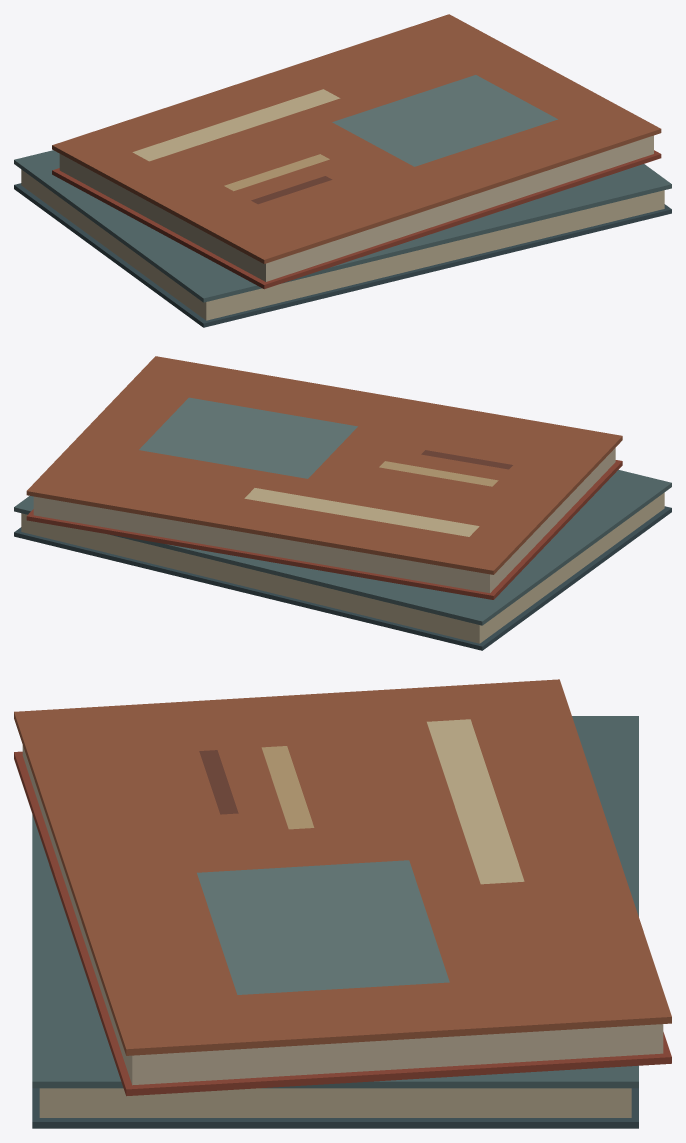
The model's file is magazine_stack.glb.
3 views of the same model, one above another, from view 1: azimuth 30°, elevation 25°; view 2: azimuth 150°, elevation 25°; view 3: azimuth 270°, elevation 25° (orthographic). The views are drawn at different scales.
Parts seen in each view (by area): view 1: magazine_stack; view 2: magazine_stack; view 3: magazine_stack.
Boxes of the visible parts, bbox=[...] form: magazine_stack: bbox=[14, 14, 671, 327]; magazine_stack: bbox=[14, 356, 671, 650]; magazine_stack: bbox=[14, 679, 671, 1128].
Size of the model in its own units: 0.2433 by 0.0283 by 0.1779.
